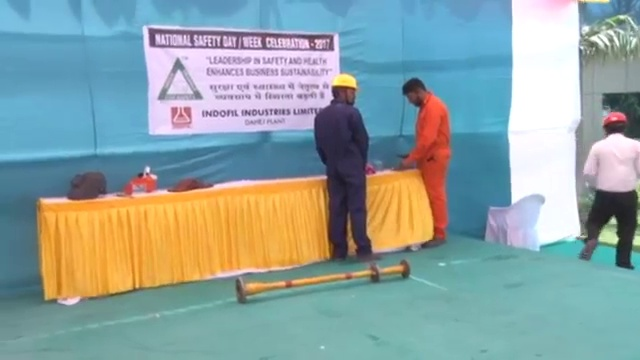helmet: (329, 72, 361, 91), (602, 110, 629, 126)
helmet_off: (399, 76, 431, 106)
helmet_on: (329, 71, 362, 109), (600, 110, 627, 138)
person: (313, 72, 384, 261), (398, 76, 452, 248), (581, 112, 640, 268), (579, 110, 638, 266)
